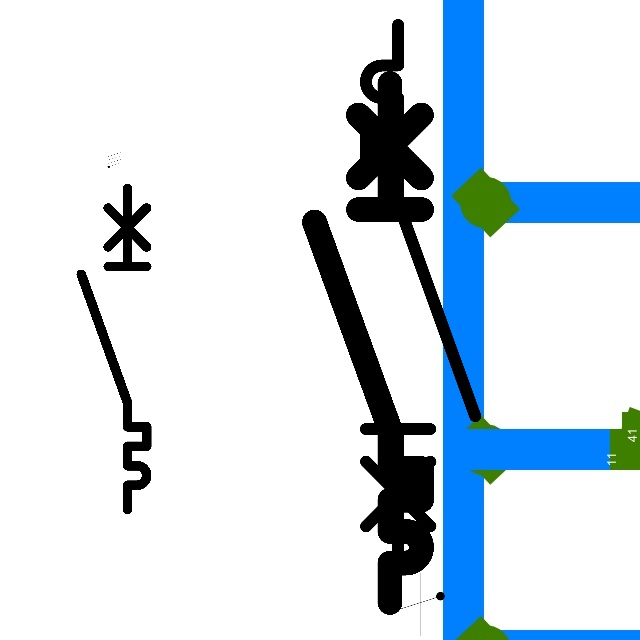interruptor_termomagnetico: (352, 11, 489, 572), (301, 70, 435, 616), (73, 180, 155, 517)
